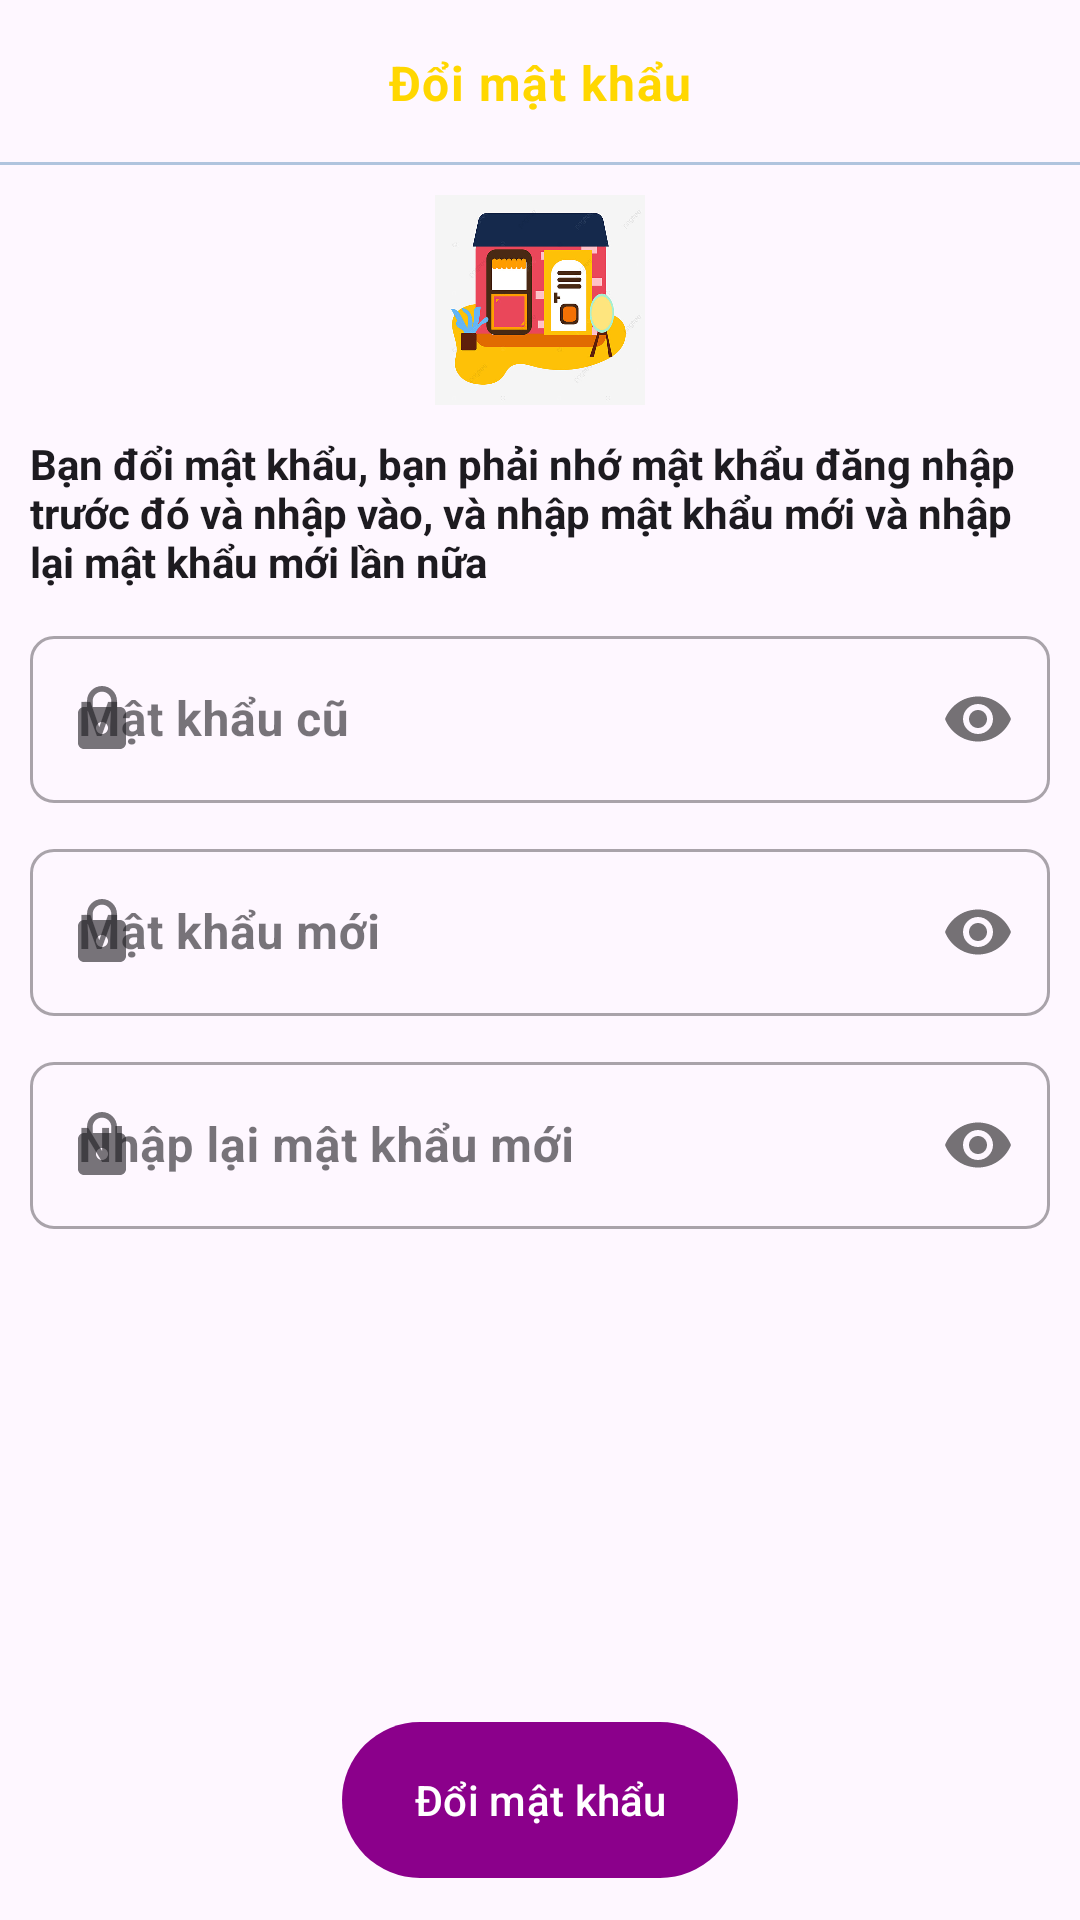

Screen size 1080×1920. Icon name, then its box in pixels as rect(x1, y1, x2, y2):
shop: rect(451, 210, 641, 400)
